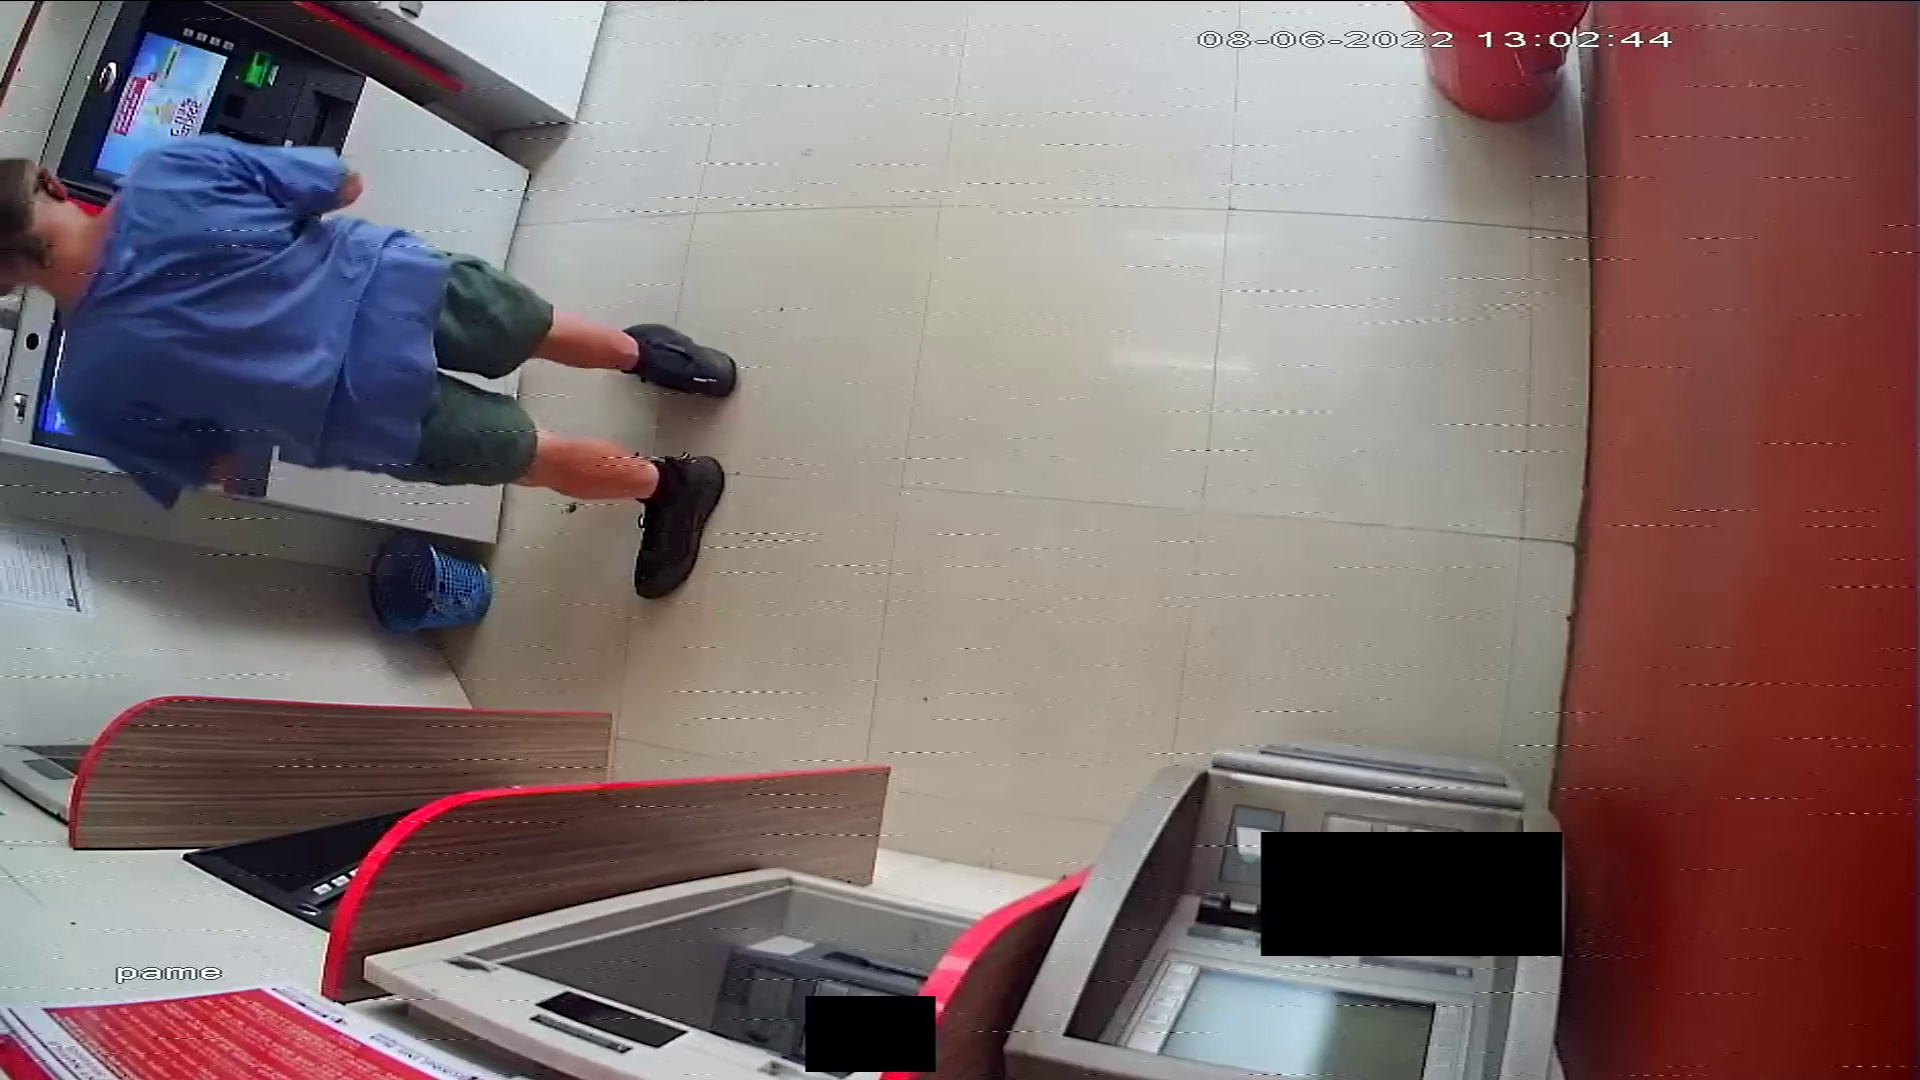person: (3, 133, 738, 601)
